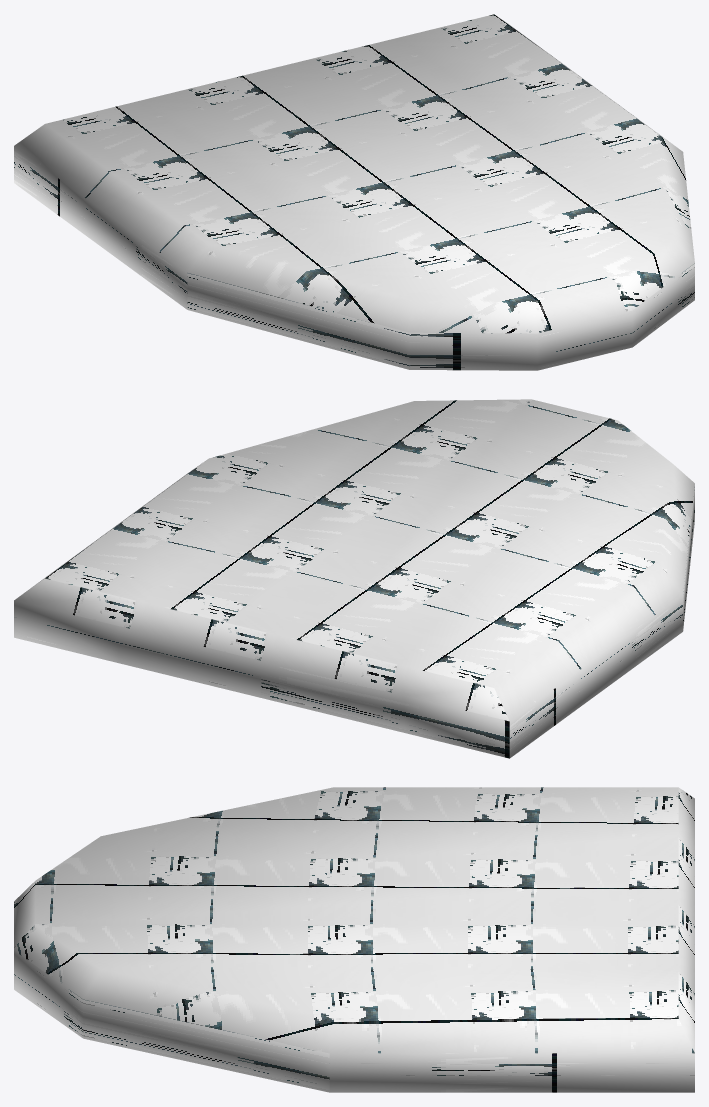
Rendered from ToiletLid.FBX.
3 renders of one model, top to bottom at view 1: azimuth 30°, elevation 25°; view 2: azimuth 150°, elevation 25°; view 3: azimuth 270°, elevation 25°, orthographic. The views are drawn at different scales.
Visible parts, largest first — view 1: ToiletSeat; view 2: ToiletSeat; view 3: ToiletSeat.
Part boxes in pixels (bbox=[...]): ToiletSeat: bbox=[14, 14, 694, 370]; ToiletSeat: bbox=[14, 399, 694, 758]; ToiletSeat: bbox=[14, 787, 694, 1092].
Bounding box in the file's own units: 1.02 × 1.16 × 0.1169.
1 material, 1 textured.
